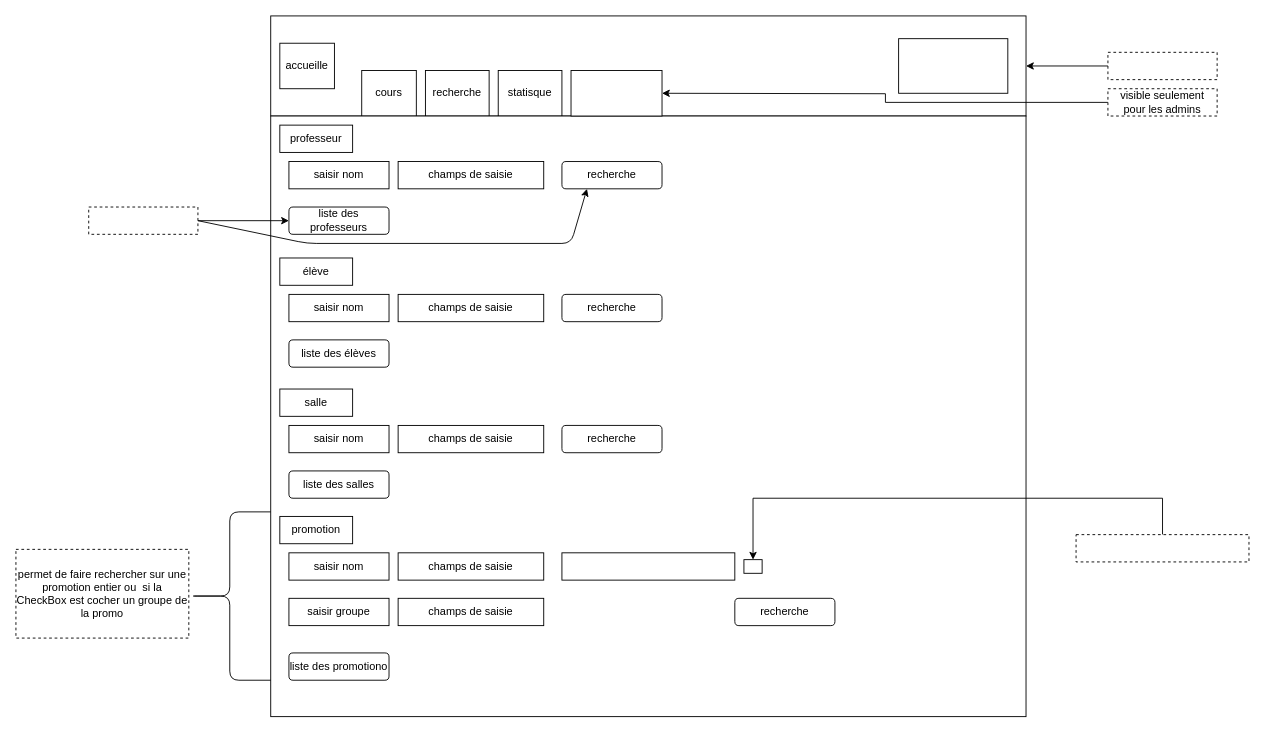
This 1265x733 diagram has some shape labels left out. Here are the shapes that lost their labels. From the top down, the box of each, then its label:
(898, 38, 1008, 93): logo
(1107, 51, 1217, 80): header
(570, 70, 662, 116): ajout de scéance
(88, 206, 198, 234): bouton
(561, 552, 735, 580): chercher un groupe en particulier
(1075, 534, 1249, 562): Cases à cocher (JCheckBox )
